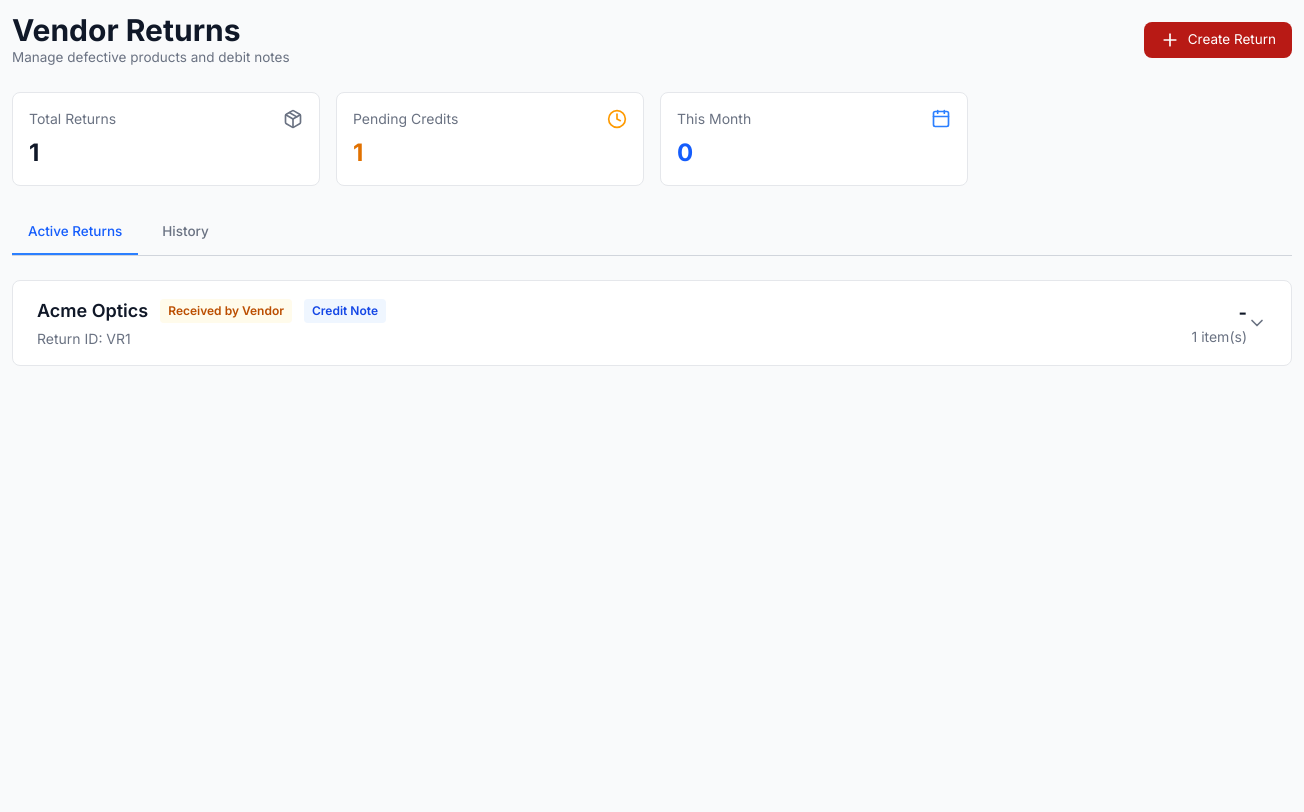
Test: VendorReturns - a manager reads the return, not the supplier credit › STORE_MANAGER: no Issue Debit Note door, so no note and no amount reach the screen
Click the heading "Acme Optics": (93, 311) x1=37 y1=297 x2=148 y2=325
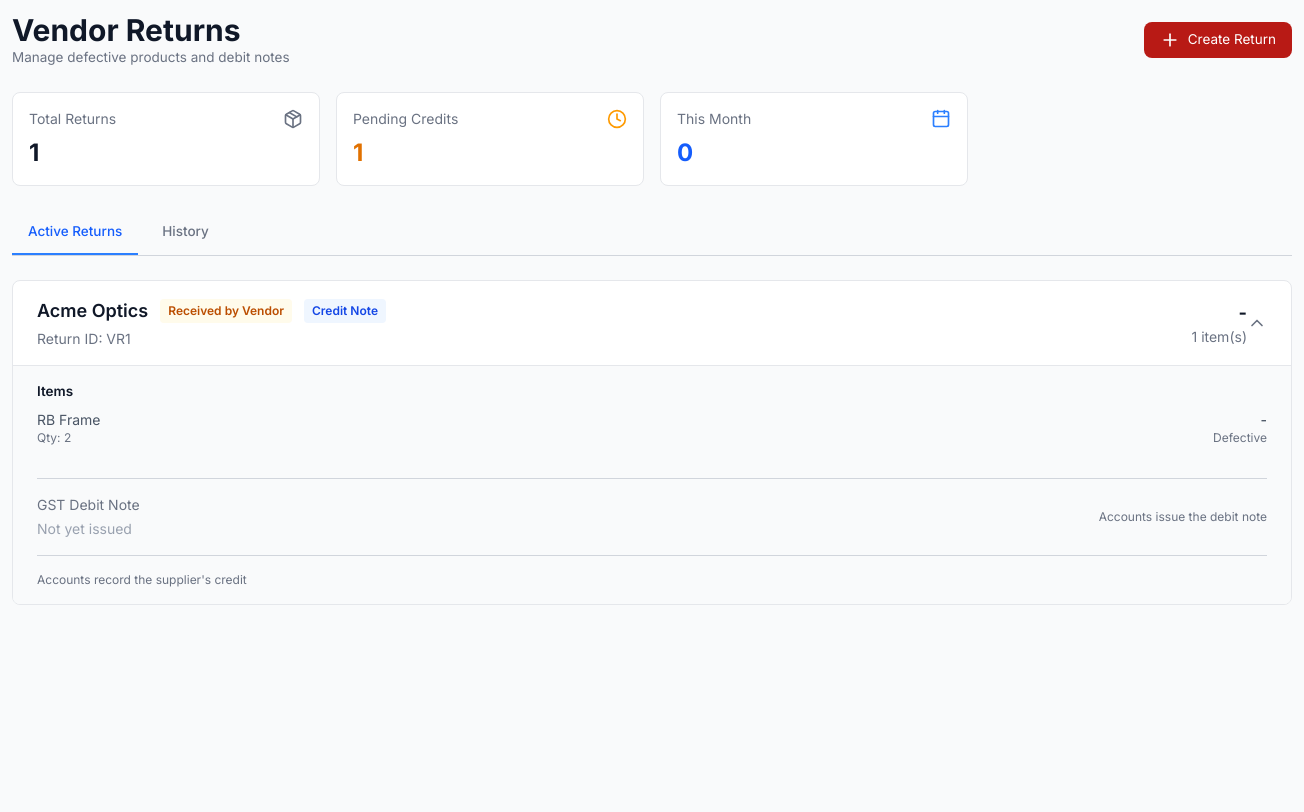
Check: the text "Not yet issued" is shown, box x1=37 y1=519 x2=140 y2=539
